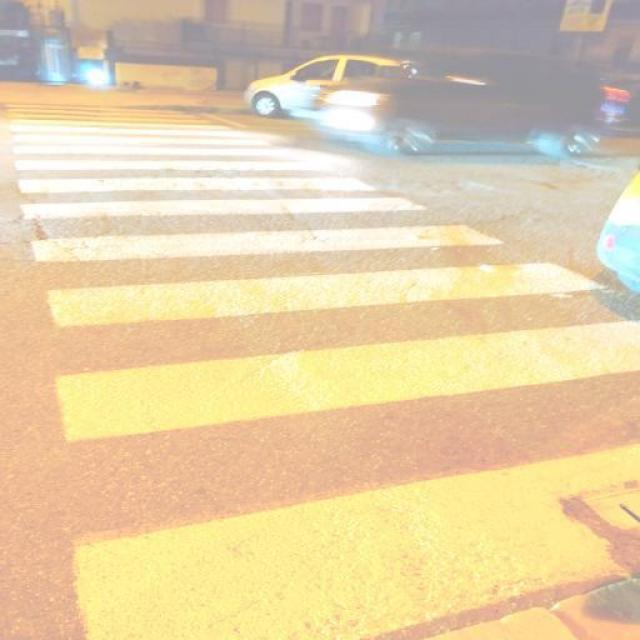crosswalk: (3, 103, 638, 640)
